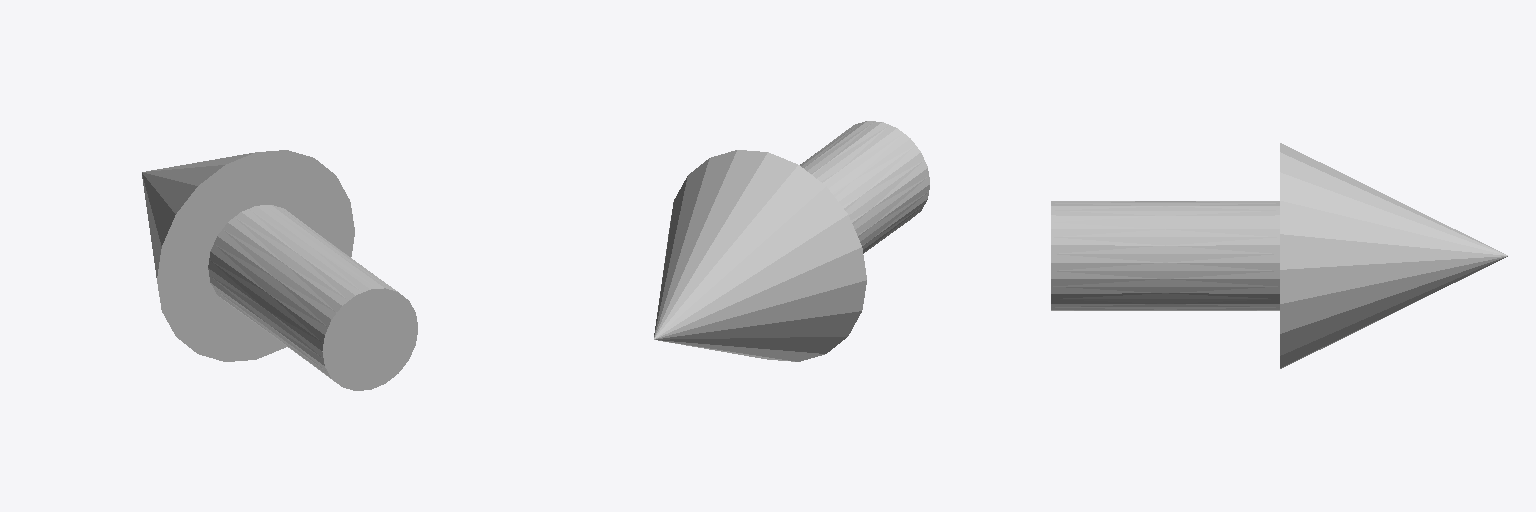
File: Arrow.obj
3 views of the same model, side by side, from view 1: azimuth 30°, elevation 25°; view 2: azimuth 150°, elevation 25°; view 3: azimuth 270°, elevation 25° (orthographic).
Visible parts, largest first — view 1: pCone1; view 2: pCone1; view 3: pCone1.
Part boxes in pixels (left/top/right/bottom): pCone1: left=142, top=150, right=417, bottom=390; pCone1: left=654, top=121, right=929, bottom=361; pCone1: left=1051, top=143, right=1507, bottom=368.
Size of the model in its own units: 2 by 2 by 4.